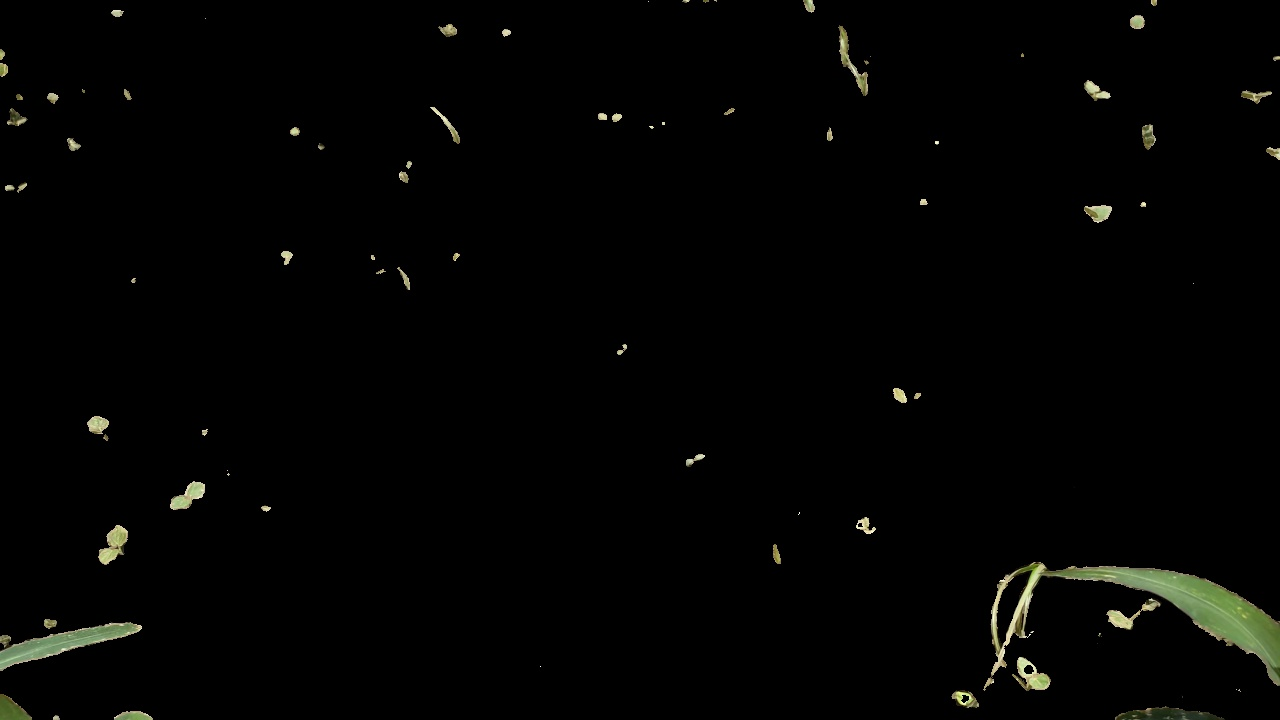crop: (978, 517, 1280, 720), (3, 584, 176, 720)
weed: (79, 408, 131, 455), (88, 515, 129, 568), (1016, 652, 1052, 696), (173, 478, 206, 525), (1088, 72, 1118, 105)
